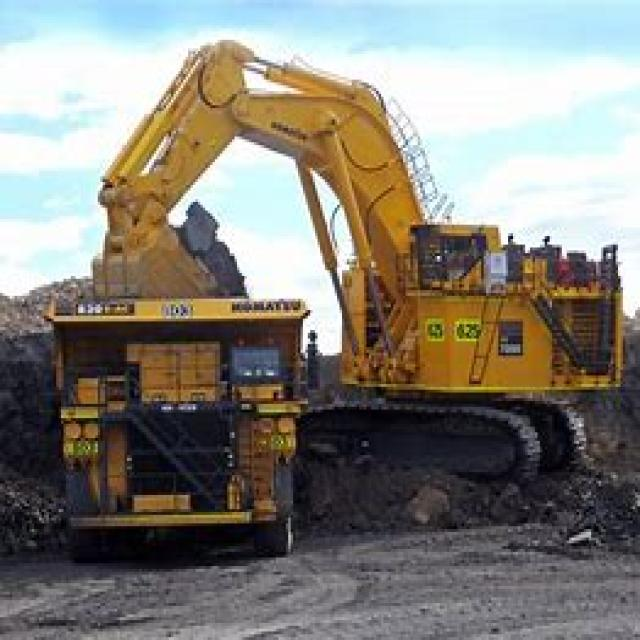dump_truck: (32, 276, 305, 566)
